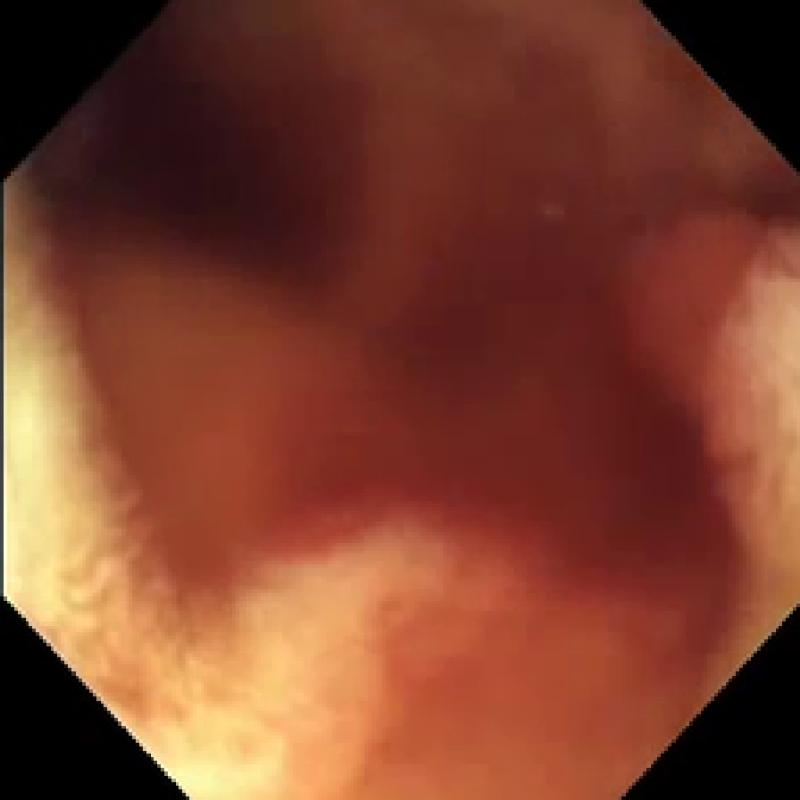bleeding: (28, 0, 800, 682)
